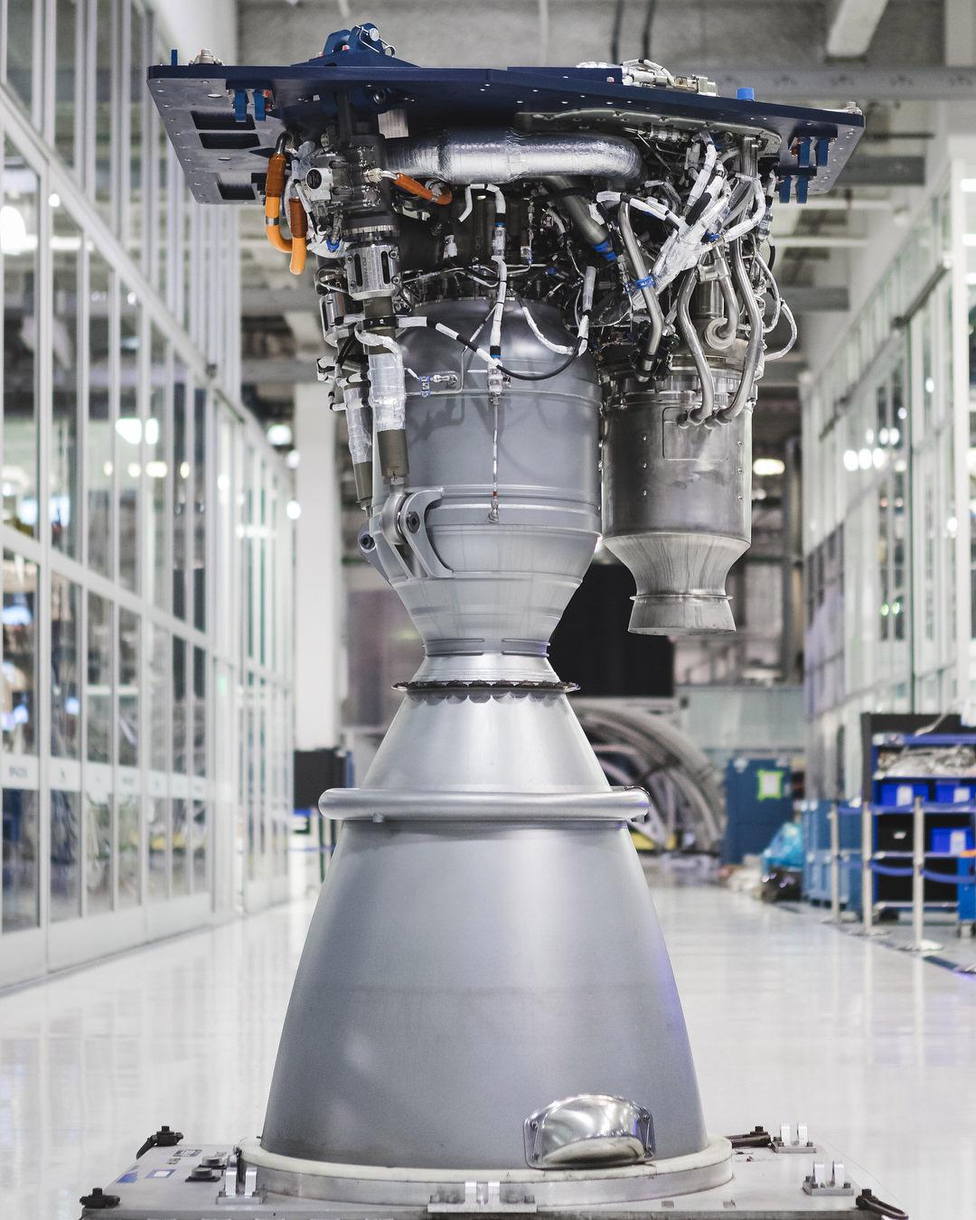thruster: (248, 676, 712, 1175)
